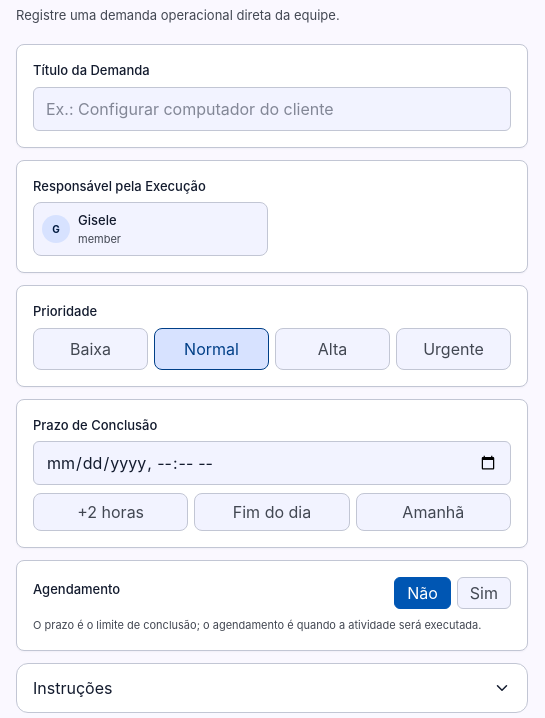
Test: NewTaskPage — criação pelo celular › avisa conflito de horário do responsável sem bloquear
Click the button "G Gisele member": (150, 229) [33, 202, 268, 256]
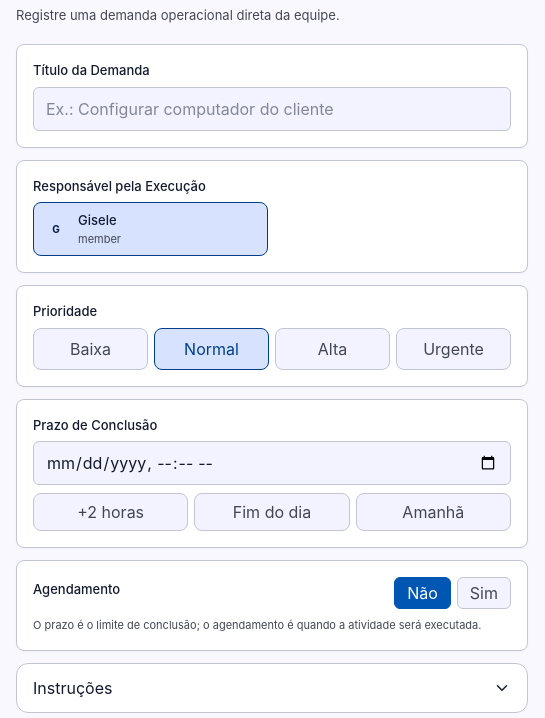
Click the button "Sim": (484, 593) [457, 577, 511, 609]
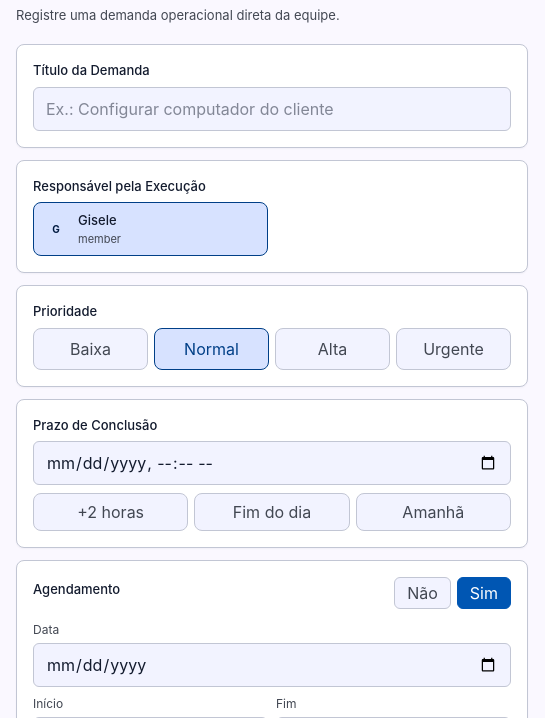
In the date field: (272, 665) [33, 643, 511, 687], type "2026-09-12"
(page scrolled)
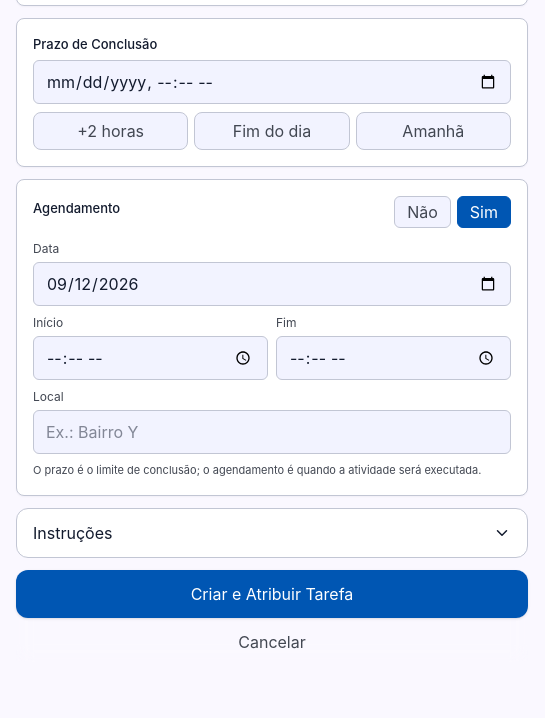
In the time field below "Início": (150, 358) [33, 336, 268, 380], type "10:00"
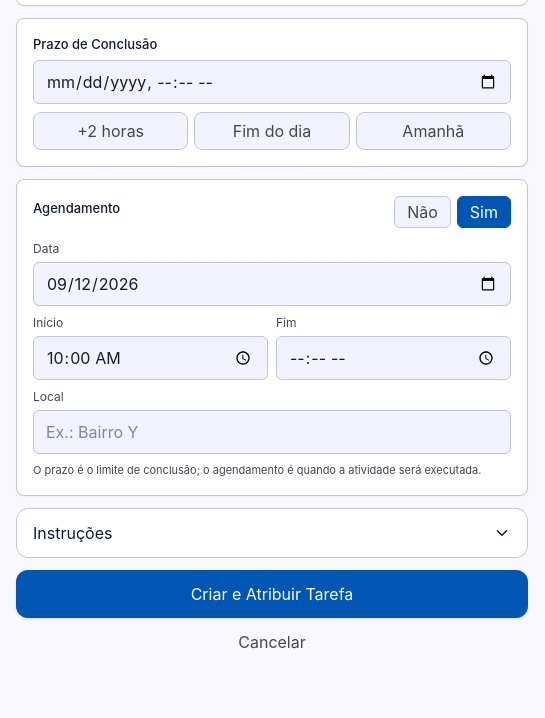
In the 2nd time field: (394, 358) [276, 336, 511, 380], type "11:00"
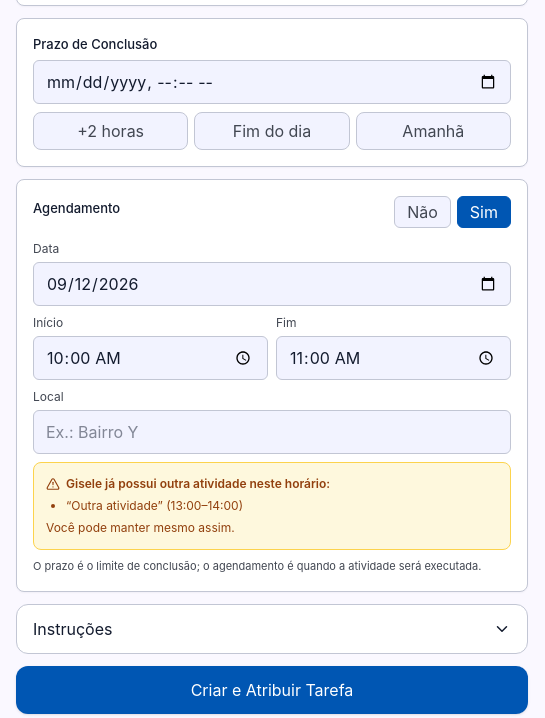
Expected: the text "Gisele já possui outra atividade neste horário:" is shown, [46, 476, 330, 491]
Expected: the list item "“Outra atividade” (13:00–14:00)" is shown, [66, 498, 243, 513]
